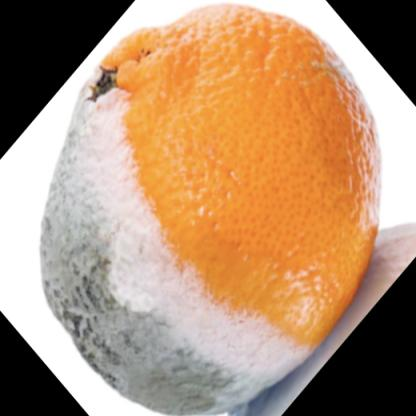rotten: (42, 4, 381, 416)
